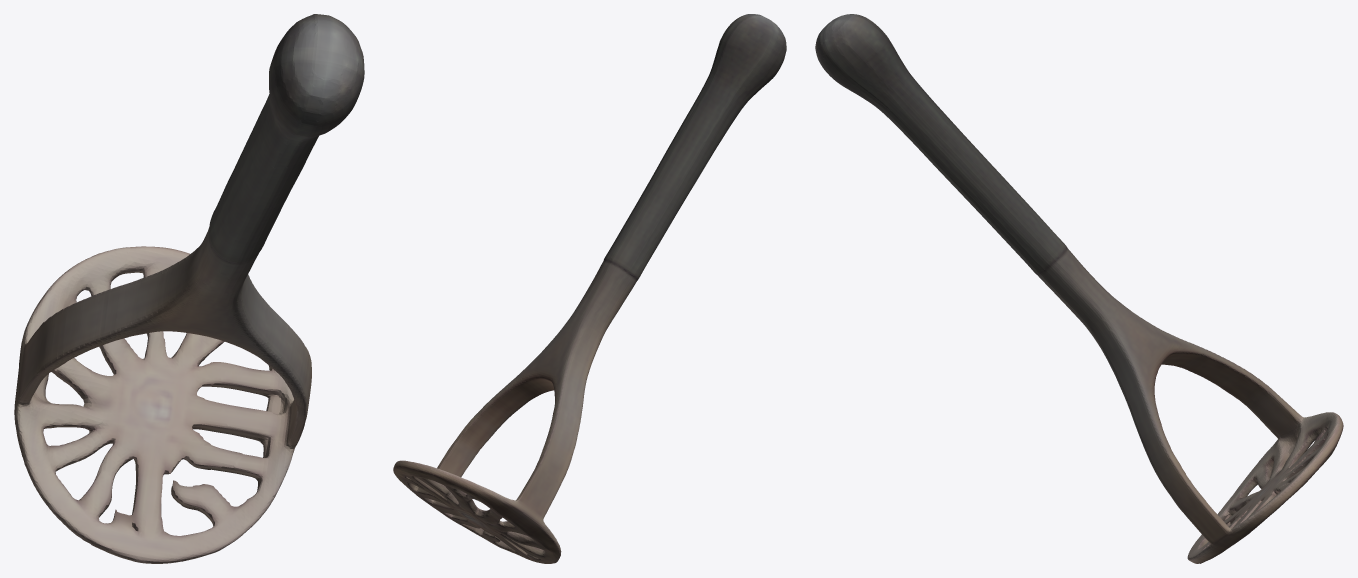
The model's file is frame_0021_source_000021_object.glb.
The picture shows the model from 3 angles, left to right: view 1: azimuth 30°, elevation 25°; view 2: azimuth 150°, elevation 25°; view 3: azimuth 270°, elevation 25°; orthographic projection. The views are drawn at different scales.
Parts seen in each view (by area): view 1: world; view 2: world; view 3: world.
Part boxes in pixels (x1,y1,x2,y2): world: [14, 14, 364, 563]; world: [393, 14, 786, 563]; world: [815, 14, 1343, 563].
Size of the model in its own units: 0.0955 by 0.2122 by 0.2044.
